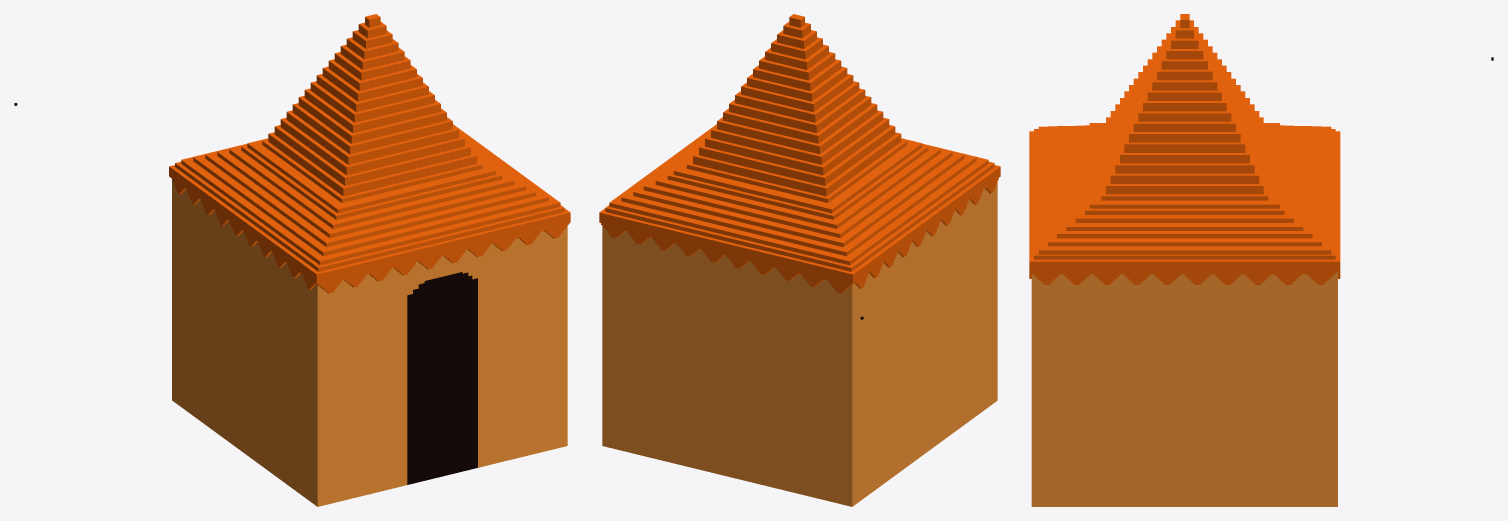
The model's file is kemah2.fbx.
The picture shows the model from 3 angles, left to right: view 1: azimuth 30°, elevation 25°; view 2: azimuth 150°, elevation 25°; view 3: azimuth 270°, elevation 25°; orthographic projection. The views are drawn at different scales.
Parts seen in each view (by area): view 1: Untitled; view 2: Untitled; view 3: Untitled.
Part boxes in pixels (x1,y1,x2,y2): Untitled: (14,14,570,506); Untitled: (599,14,1000,506); Untitled: (1029,14,1493,506).
Size of the model in its own units: 1760 by 2030 by 2000.
1 material, 1 textured.
